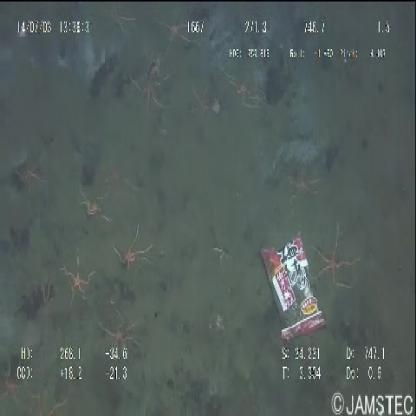Rác: (261, 233, 325, 346)
